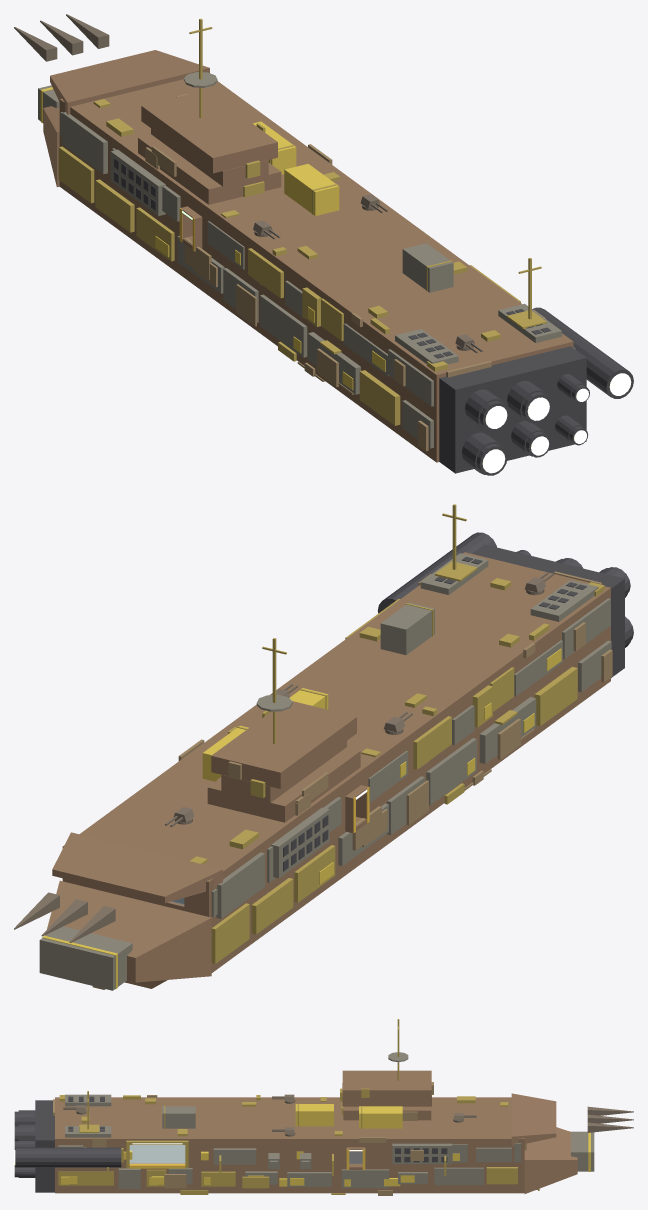
The model's file is ship_SMALL_FRIGATE.glb.
3 views of the same model, one above another, from view 1: azimuth 30°, elevation 25°; view 2: azimuth 150°, elevation 25°; view 3: azimuth 270°, elevation 25° (orthographic). The views are drawn at different scales.
Parts seen in each view (by area): view 1: SMALL_FRIGATE_Hull-col, SMALL_FRIGATE_Engines, SMALL_FRIGATE_Armor, SMALL_FRIGATE_Trim, SMALL_FRIGATE_ScrapPlates, SMALL_FRIGATE_Accent, SMALL_FRIGATE_EngineGlow, SMALL_FRIGATE_ScrapTrim, SMALL_FRIGATE_Details, SMALL_FRIGATE_RamSpikes; view 2: SMALL_FRIGATE_Hull-col, SMALL_FRIGATE_Armor, SMALL_FRIGATE_Trim, SMALL_FRIGATE_Engines, SMALL_FRIGATE_ScrapPlates, SMALL_FRIGATE_Accent, SMALL_FRIGATE_ScrapTrim, SMALL_FRIGATE_Details, SMALL_FRIGATE_RamSpikes; view 3: SMALL_FRIGATE_Hull-col, SMALL_FRIGATE_Armor, SMALL_FRIGATE_Engines, SMALL_FRIGATE_Accent, SMALL_FRIGATE_Trim, SMALL_FRIGATE_ScrapPlates, SMALL_FRIGATE_ScrapTrim, SMALL_FRIGATE_CargoBayShield, SMALL_FRIGATE_CargoBayDoor-col, SMALL_FRIGATE_RamSpikes, SMALL_FRIGATE_Details, SMALL_FRIGATE_Hazard.
Boxes of the visible parts, box(x1,y1,x2,y2) form: SMALL_FRIGATE_Hull-col: box(43, 50, 573, 462); SMALL_FRIGATE_Engines: box(114, 158, 633, 475); SMALL_FRIGATE_Armor: box(38, 72, 575, 448); SMALL_FRIGATE_Trim: box(58, 66, 520, 425); SMALL_FRIGATE_ScrapPlates: box(145, 94, 545, 451); SMALL_FRIGATE_Accent: box(40, 87, 385, 390); SMALL_FRIGATE_EngineGlow: box(482, 373, 631, 473); SMALL_FRIGATE_ScrapTrim: box(189, 18, 546, 361); SMALL_FRIGATE_Details: box(93, 99, 500, 371); SMALL_FRIGATE_RamSpikes: box(14, 14, 109, 61); SMALL_FRIGATE_Hull-col: box(45, 552, 610, 988); SMALL_FRIGATE_Armor: box(39, 553, 611, 990); SMALL_FRIGATE_Trim: box(211, 599, 577, 963); SMALL_FRIGATE_Engines: box(283, 532, 633, 871); SMALL_FRIGATE_ScrapPlates: box(92, 571, 612, 989); SMALL_FRIGATE_Accent: box(42, 648, 561, 989); SMALL_FRIGATE_ScrapTrim: box(250, 504, 517, 804); SMALL_FRIGATE_Details: box(190, 578, 604, 864); SMALL_FRIGATE_RamSpikes: box(14, 892, 115, 942); SMALL_FRIGATE_Hull-col: box(55, 1070, 577, 1193); SMALL_FRIGATE_Armor: box(58, 1052, 594, 1189); SMALL_FRIGATE_Engines: box(14, 1096, 447, 1192); SMALL_FRIGATE_Accent: box(61, 1104, 590, 1186); SMALL_FRIGATE_Trim: box(58, 1049, 517, 1186); SMALL_FRIGATE_ScrapPlates: box(53, 1082, 526, 1195); SMALL_FRIGATE_ScrapTrim: box(79, 1019, 539, 1194); SMALL_FRIGATE_CargoBayShield: box(129, 1145, 185, 1163); SMALL_FRIGATE_CargoBayDoor-col: box(129, 1145, 185, 1162); SMALL_FRIGATE_RamSpikes: box(587, 1106, 633, 1132); SMALL_FRIGATE_Details: box(59, 1095, 508, 1136); SMALL_FRIGATE_Hazard: box(129, 1149, 365, 1169).
Size of the model in its own units: 18.87 by 25.69 by 93.72.
